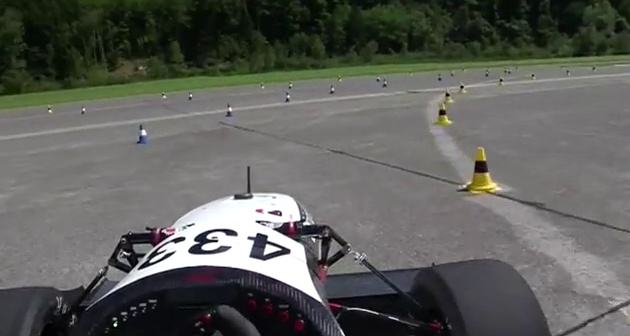Cone: (462, 146, 500, 194), (434, 100, 454, 126), (135, 124, 149, 145)
